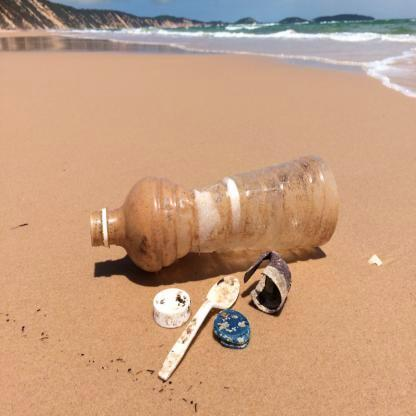Plastic: (84, 151, 339, 269)
